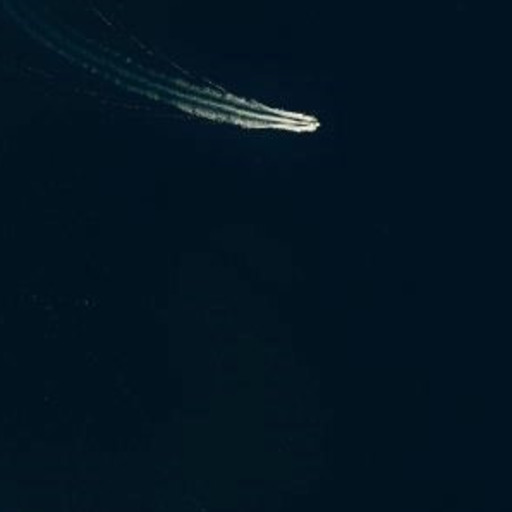ship: (303, 115, 323, 134)
